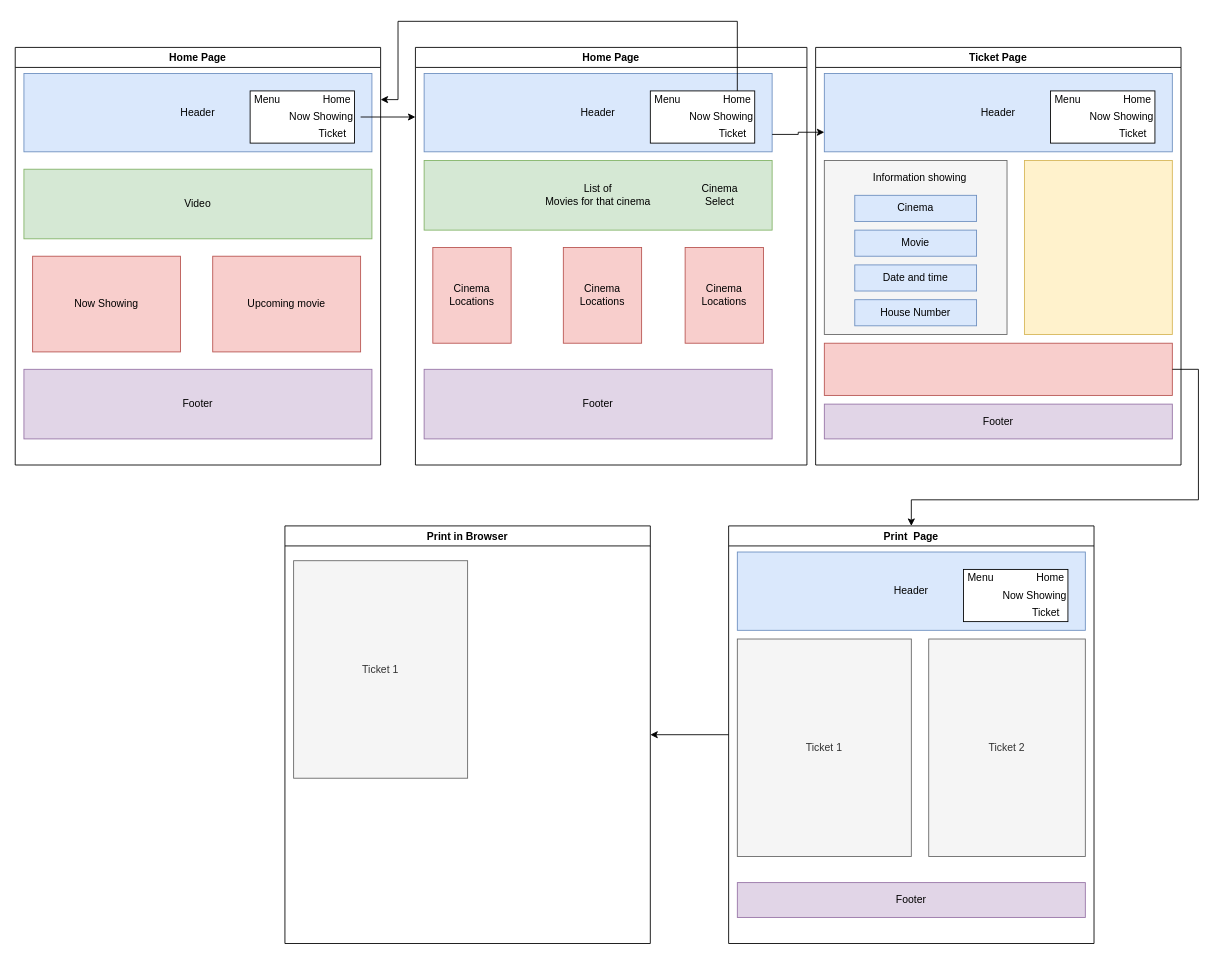
This 1221x959 diagram has some shape labels left out. The shapes that lost their labels are listed below. From the top down, each one's centre as x and y in pixels, then its label:
At [1098,247]: "Seat Plan".
At [997,368]: "Select seat".
